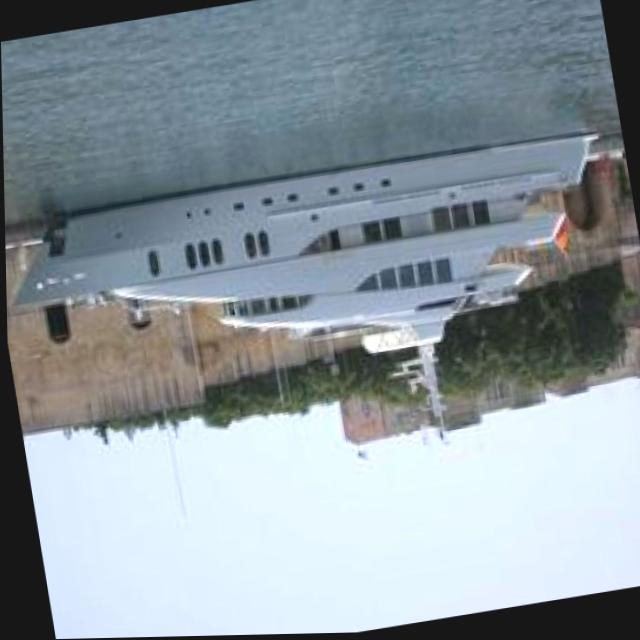ship2: (11, 134, 594, 440)
